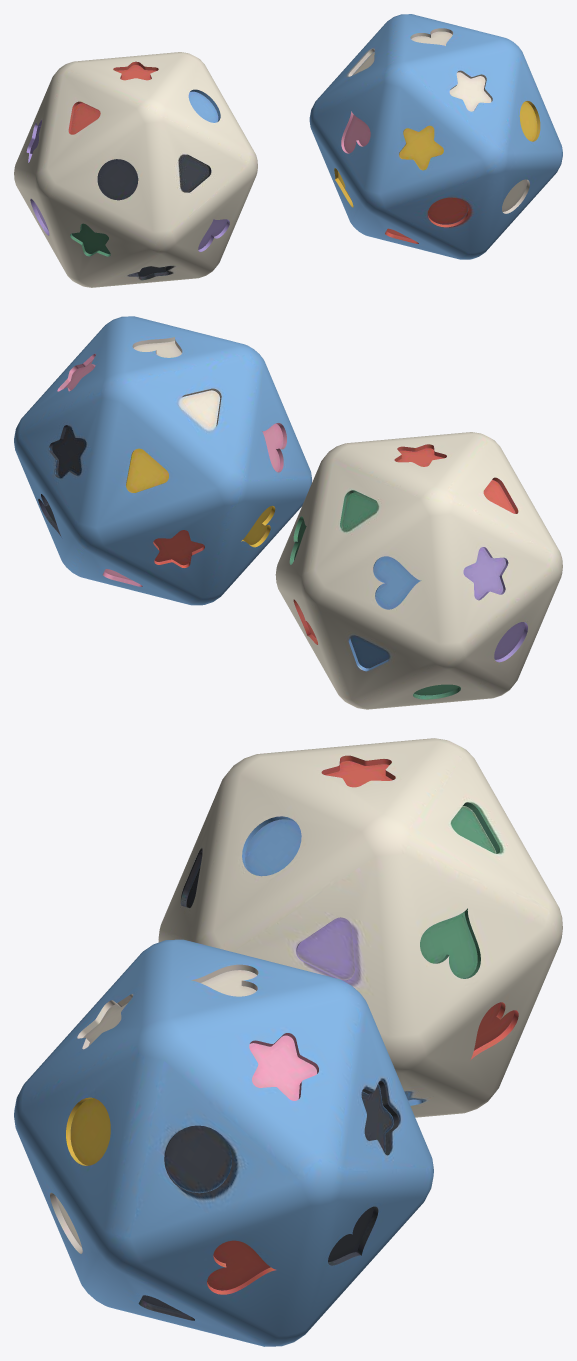
File: dado_20.glb
3 views of the same model, one above another, from view 1: azimuth 30°, elevation 25°; view 2: azimuth 150°, elevation 25°; view 3: azimuth 270°, elevation 25° (orthographic). The views are drawn at different scales.
Visible parts, largest first — view 1: d20_body; view 2: d20_body; view 3: d20_body.
Part boxes in pixels (x1,y1,x2,y2): d20_body: (14, 14, 562, 287); d20_body: (14, 316, 562, 709); d20_body: (14, 738, 562, 1346).
Size of the model in its own units: 0.0522 by 0.021 by 0.0321.
Materials: 1 (1 with a texture image).
